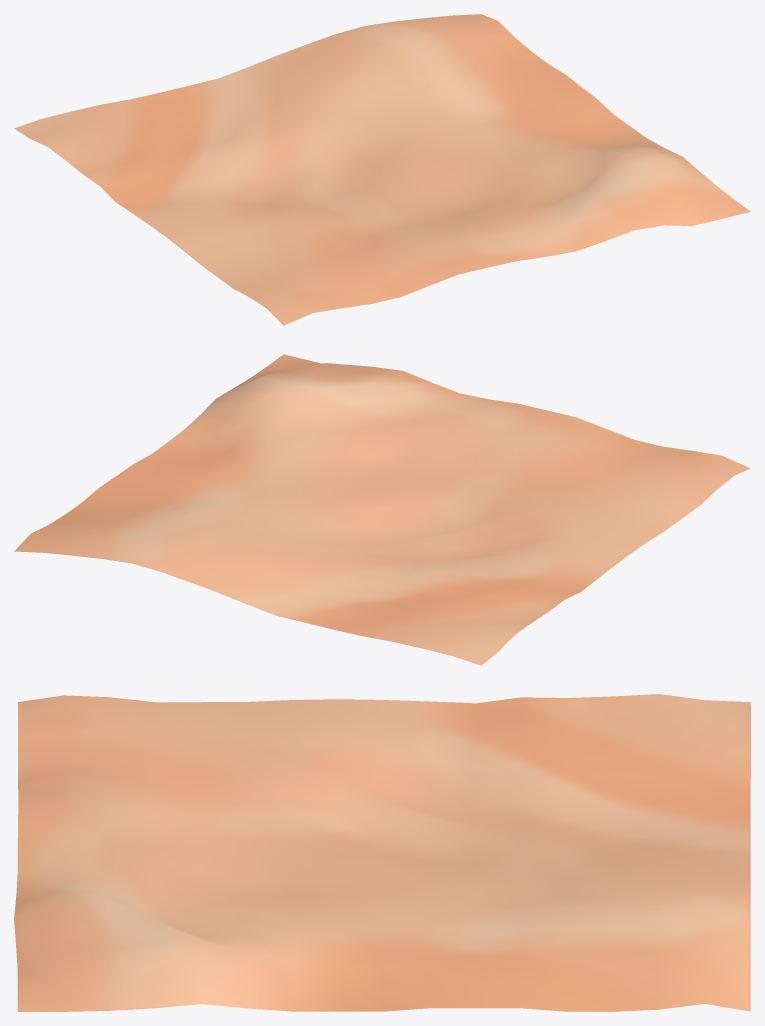
Rendered from Sand.gltf.
3 renders of one model, top to bottom at view 1: azimuth 30°, elevation 25°; view 2: azimuth 150°, elevation 25°; view 3: azimuth 270°, elevation 25°, orthographic. The views are drawn at different scales.
Parts seen in each view (by area): view 1: Plane; view 2: Plane; view 3: Plane.
Part boxes in pixels (x1,y1,x2,y2): Plane: (14,14,750,325); Plane: (14,354,750,665); Plane: (14,694,750,1011).
Bounding box in the file's own units: 8.44 × 0.5669 × 8.48.
Materials: 1 (1 with a texture image).
